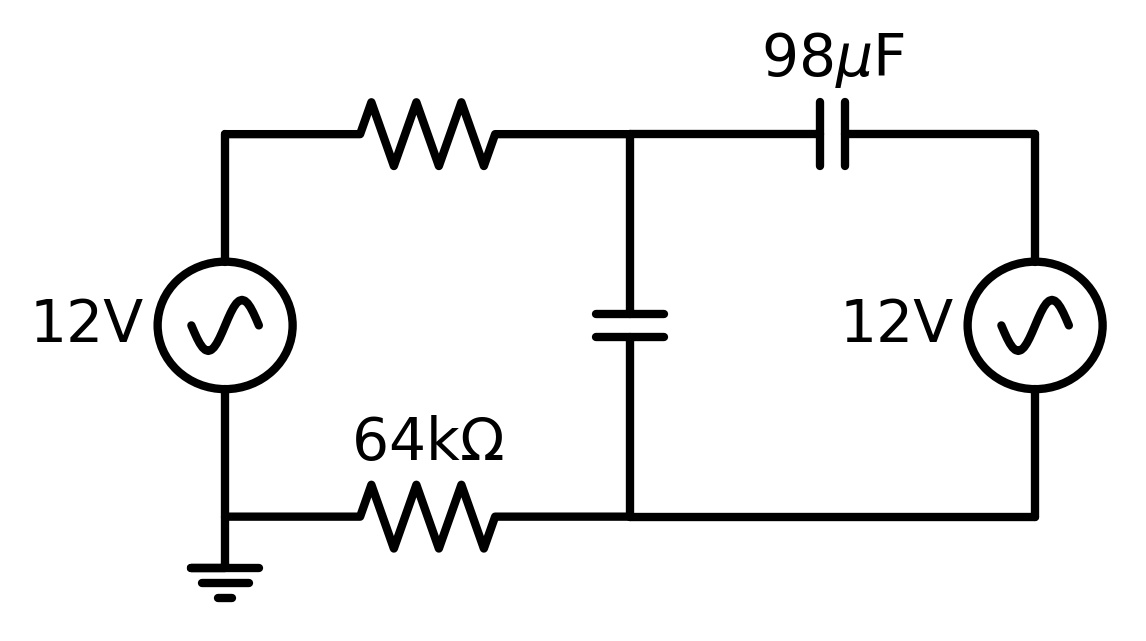capacitor: (788, 82, 875, 193), (587, 299, 685, 360)
ground: (178, 546, 268, 608)
resistor: (335, 466, 517, 562), (355, 85, 508, 182)
sourceac: (143, 251, 309, 405), (961, 250, 1115, 414)
